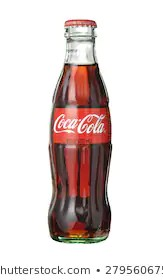coke-glass-bottle: (46, 15, 114, 245)
